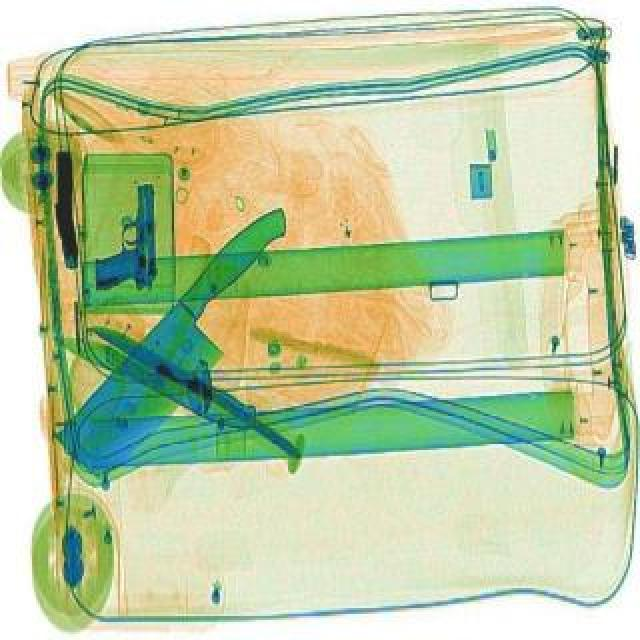gun: (88, 186, 158, 296), (50, 154, 80, 272)
knife: (42, 204, 326, 488), (84, 320, 308, 460), (46, 328, 264, 440)
